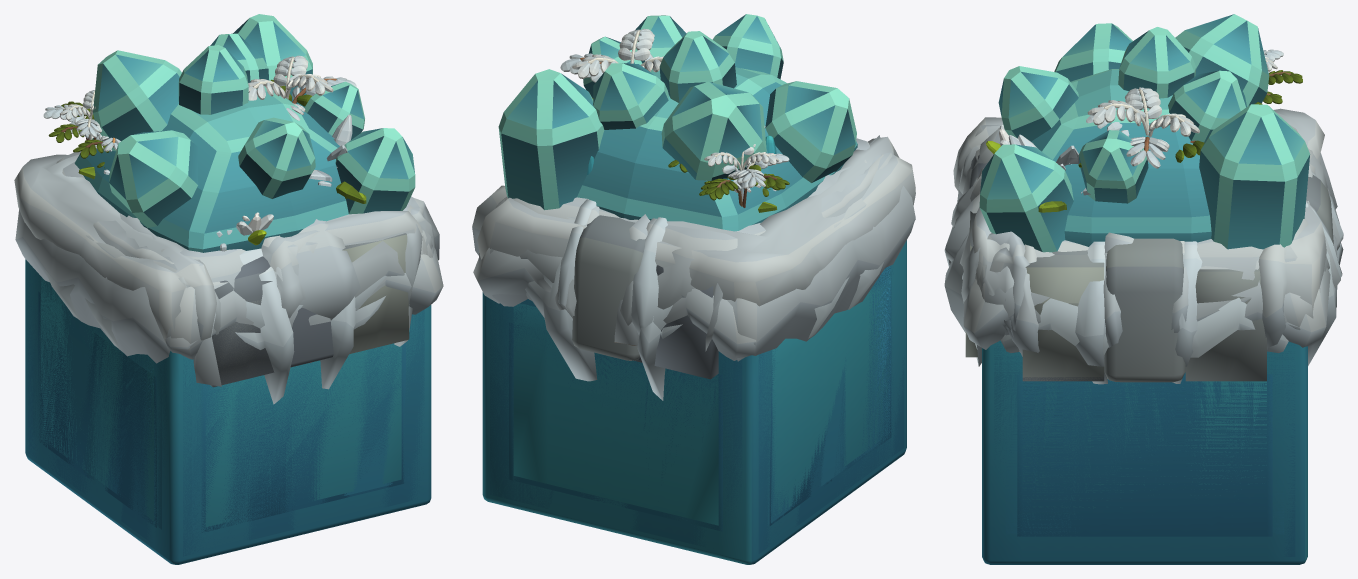
File: Winter_Cubes.fbx
3 renders of one model, left to right at view 1: azimuth 30°, elevation 25°; view 2: azimuth 150°, elevation 25°; view 3: azimuth 270°, elevation 25°, orthographic. The views are drawn at different scales.
Visible parts, largest first — view 1: Winter_Cube_03 .002, Winter4, Winter1, Winter2, Winter9, winter_Cube11.002, Winter5, Winter_Cube5.003, Winter3, winter10.001, winter_Cube12.002, Winter_Cube1.002 (+13 smaller); view 2: Winter_Cube_03 .002, Winter1, Winter4, winter_Cube11.002, Winter9, Winter_Cube5.003, Road.002, wnter_Cube4.003, winter10.001, Winter5, Winter_Cube1.002, Spring_Cube2.004 (+6 smaller); view 3: Winter_Cube_03 .002, Winter3, Winter4, Road.002, winter_Cube11.002, Winter2, wnter_Cube4.003, Winter1, Winter_Cube1.002, winter10.001, Cube_Base.007, Spring_Cube2.004 (+11 smaller).
Boxes of the visible parts, x1,y1,x2,y2 form: Winter_Cube_03 .002: (74, 14, 415, 252); Winter4: (25, 259, 431, 564); Winter1: (41, 277, 401, 527); Winter2: (38, 291, 404, 532); Winter9: (27, 265, 424, 556); winter_Cube11.002: (14, 154, 282, 341); Winter5: (33, 276, 415, 532); Winter_Cube5.003: (15, 209, 435, 386); Winter3: (47, 338, 405, 532); winter10.001: (56, 151, 432, 334); winter_Cube12.002: (161, 196, 439, 346); Winter_Cube1.002: (45, 266, 385, 404); Winter_Cube_03 .002: (498, 14, 857, 231); Winter1: (513, 275, 890, 525); Winter4: (482, 240, 906, 564); winter_Cube11.002: (472, 136, 915, 306); Winter9: (490, 265, 904, 553); Winter_Cube5.003: (490, 135, 915, 361); Road.002: (572, 215, 645, 360); wnter_Cube4.003: (473, 206, 756, 360); winter10.001: (503, 154, 883, 309); Winter5: (499, 264, 893, 524); Winter_Cube1.002: (525, 257, 884, 400); Spring_Cube2.004: (543, 199, 672, 335); Winter_Cube_03 .002: (979, 14, 1310, 252); Winter3: (1017, 374, 1272, 536); Winter4: (982, 340, 1307, 564); Road.002: (1104, 175, 1336, 382); winter_Cube11.002: (953, 108, 1326, 349); Winter2: (1017, 374, 1272, 466); wnter_Cube4.003: (962, 149, 1340, 356); Winter1: (1022, 381, 1266, 509); Winter_Cube1.002: (944, 177, 1343, 372); winter10.001: (951, 124, 1329, 352); Cube_Base.007: (1185, 268, 1266, 381); Spring_Cube2.004: (962, 171, 1343, 384).
Size of the model in its own units: 119 by 158 by 122.
